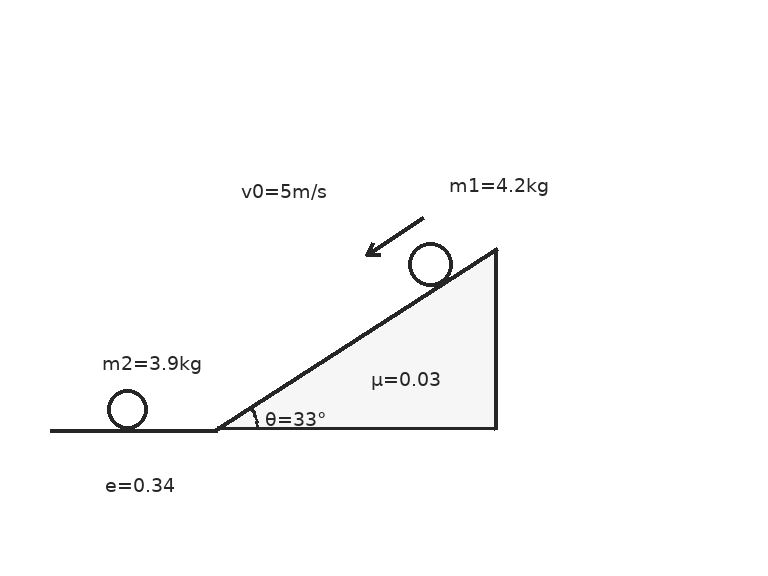ball: (406, 240, 454, 288), (105, 387, 149, 431)
ramp: (215, 246, 497, 431)
